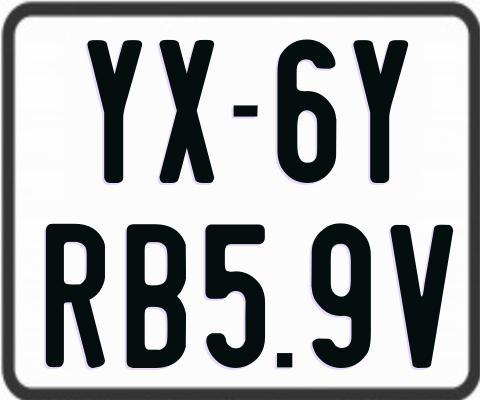5: (203, 225, 267, 369)
6: (276, 39, 335, 187)
9: (309, 222, 373, 367)
B: (127, 221, 188, 367)
R: (44, 221, 103, 366)
V: (390, 224, 455, 371)
X: (158, 40, 218, 185)
Y: (351, 37, 411, 183), (85, 39, 141, 183)
